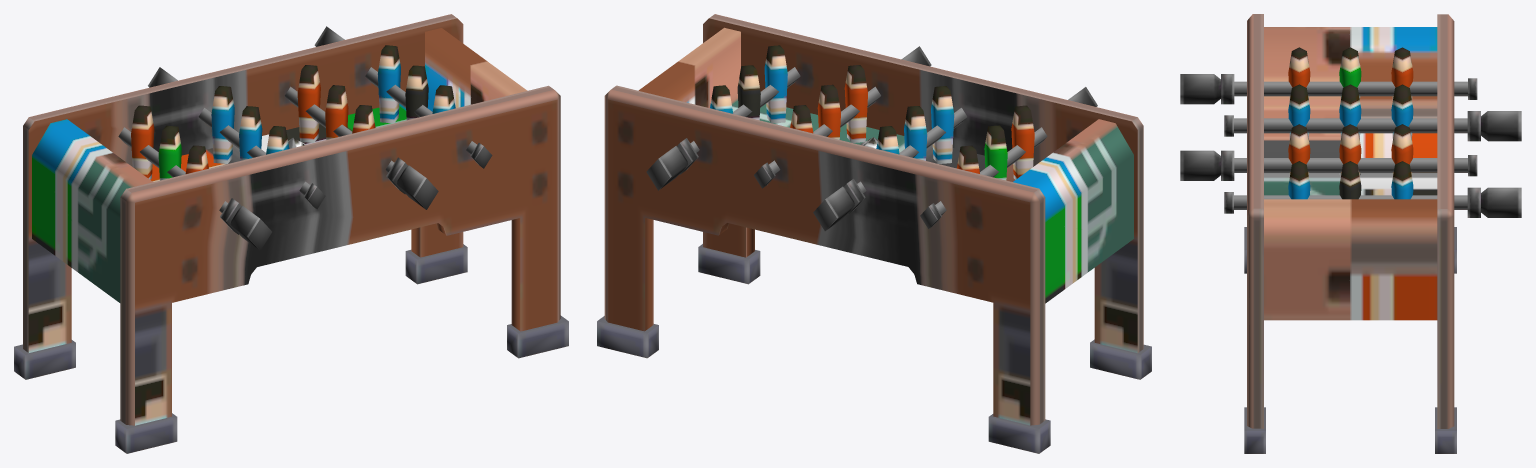
The model's file is int_oth_tablesoccer.dae.
The picture shows the model from 3 angles, left to right: view 1: azimuth 30°, elevation 25°; view 2: azimuth 150°, elevation 25°; view 3: azimuth 270°, elevation 25°; orthographic projection. The views are drawn at different scales.
Visible parts, largest first — view 1: int_oth_tablesoccer; view 2: int_oth_tablesoccer; view 3: int_oth_tablesoccer.
Boxes of the visible parts, x1,y1,x2,y2 form: int_oth_tablesoccer: (14, 14, 568, 453); int_oth_tablesoccer: (597, 14, 1151, 453); int_oth_tablesoccer: (1180, 14, 1521, 453).
Bounding box in the file's own units: 44.21 × 25.11 × 31.31.
1 material, 1 textured.
